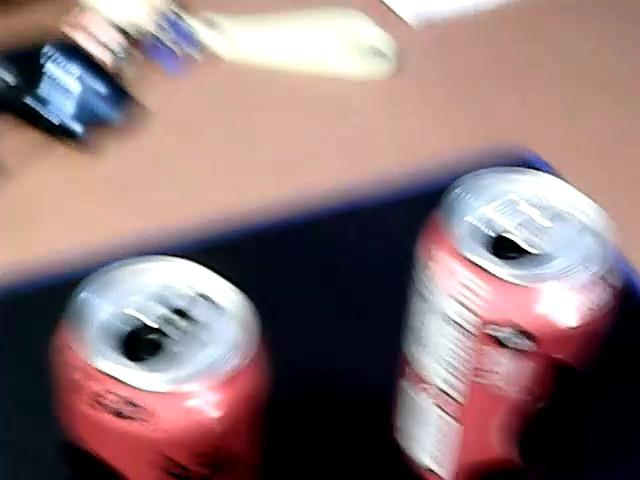coke: (389, 164, 628, 480), (48, 252, 271, 477)
